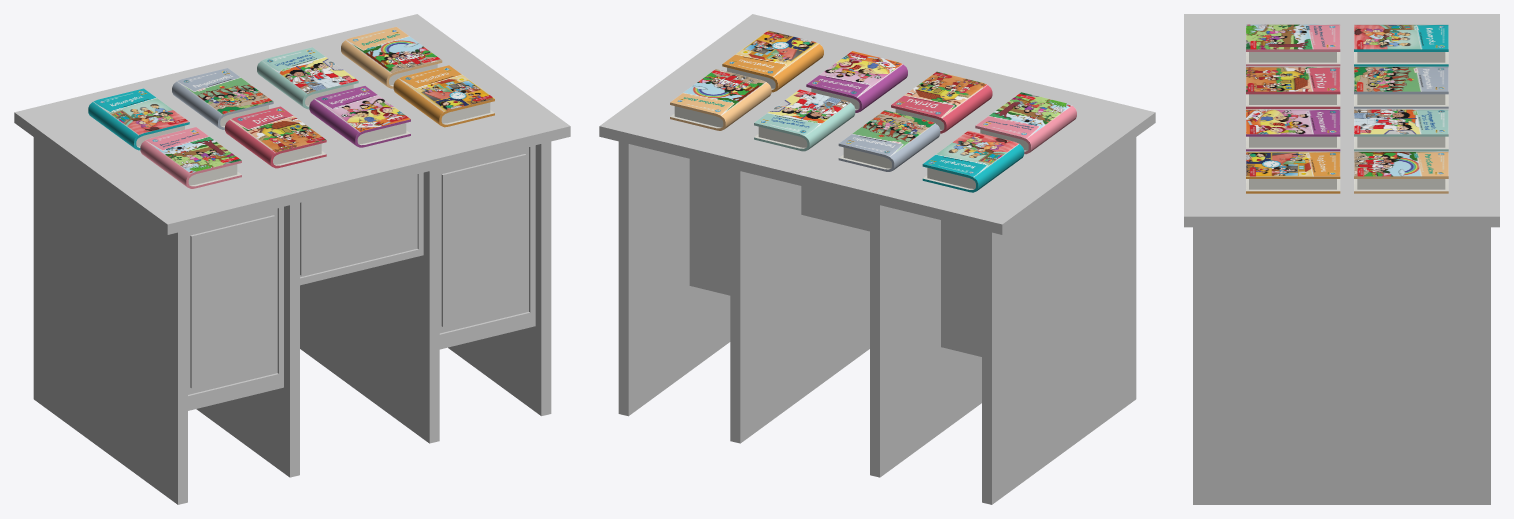
The model's file is meja guru.fbx.
3 renders of one model, left to right at view 1: azimuth 30°, elevation 25°; view 2: azimuth 150°, elevation 25°; view 3: azimuth 270°, elevation 25°, orthographic. The views are drawn at different scales.
Visible parts, largest first — view 1: Cube.001, Cube, Cube.006, Cube.004, Cube.005, buku cetak.002, buku cetak, buku cetak.001, buku cetak.003, buku cetak.006, buku cetak.005, buku cetak.007 (+1 smaller); view 2: Cube.001, Cube.004, Cube, Cube.006, buku cetak.004, buku cetak.007, buku cetak.006, buku cetak.005, buku cetak, buku cetak.001, buku cetak.002, buku cetak.003 (+1 smaller); view 3: Cube.001, Cube, buku cetak.004, buku cetak.006, buku cetak.007, buku cetak.003, buku cetak, buku cetak.002, buku cetak.001, buku cetak.005.
Part boxes in pixels (left/top/right/bottom): Cube.001: left=33, top=137, right=551, bottom=504; Cube: left=14, top=14, right=570, bottom=234; Cube.006: left=188, top=145, right=535, bottom=410; Cube.004: left=196, top=168, right=439, bottom=477; Cube.005: left=300, top=172, right=423, bottom=285; buku cetak.002: left=309, top=86, right=410, bottom=147; buku cetak: left=140, top=127, right=241, bottom=188; buku cetak.001: left=225, top=106, right=326, bottom=168; buku cetak.003: left=393, top=65, right=494, bottom=127; buku cetak.006: left=257, top=47, right=358, bottom=109; buku cetak.005: left=172, top=68, right=273, bottom=129; buku cetak.007: left=341, top=27, right=442, bottom=88; Cube.001: left=618, top=137, right=1136, bottom=504; Cube.004: left=730, top=168, right=981, bottom=477; Cube: left=599, top=14, right=1155, bottom=234; Cube.006: left=689, top=159, right=981, bottom=356; buku cetak.004: left=922, top=130, right=1024, bottom=192; buku cetak.007: left=670, top=69, right=771, bottom=130; buku cetak.006: left=754, top=89, right=855, bottom=151; buku cetak.005: left=838, top=110, right=940, bottom=171; buku cetak: left=975, top=92, right=1076, bottom=154; buku cetak.001: left=891, top=71, right=992, bottom=133; buku cetak.002: left=806, top=51, right=907, bottom=112; buku cetak.003: left=722, top=30, right=823, bottom=92; Cube.001: left=1193, top=227, right=1490, bottom=504; Cube: left=1184, top=14, right=1499, bottom=227; buku cetak.004: left=1354, top=24, right=1448, bottom=66; buku cetak.006: left=1354, top=109, right=1448, bottom=151; buku cetak.007: left=1354, top=151, right=1448, bottom=193; buku cetak.003: left=1246, top=151, right=1340, bottom=193; buku cetak: left=1246, top=24, right=1340, bottom=66; buku cetak.002: left=1246, top=109, right=1340, bottom=151; buku cetak.001: left=1246, top=67, right=1340, bottom=108; buku cetak.005: left=1354, top=67, right=1448, bottom=108.
Bounding box in the file's own units: 120 × 86.47 × 79.04.
